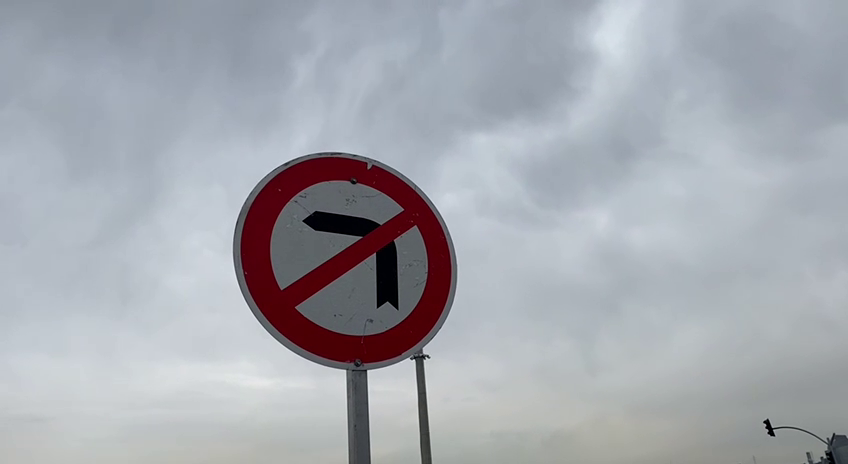noTurnLeft: (225, 144, 463, 380)
